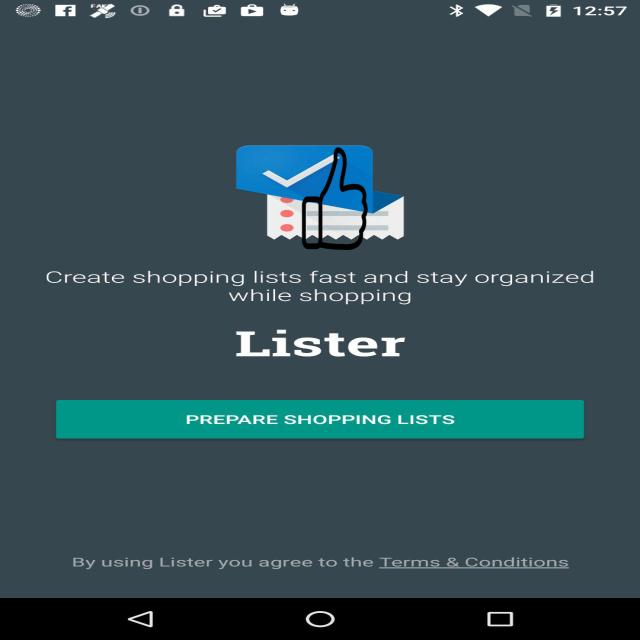privacy zuckering: (301, 147, 369, 250)
